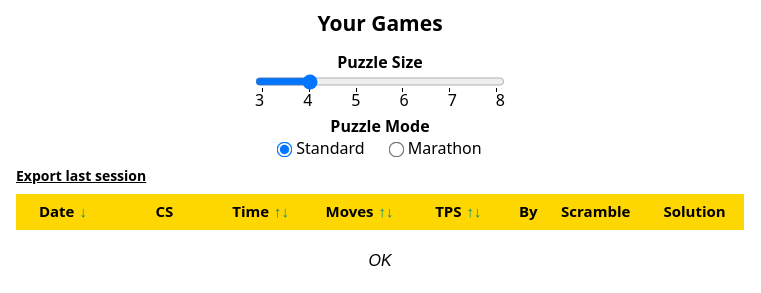
Test case: GamesTable › sorting › shows the inverted TPS arrow once TPS is the active sort
Expected: the element with class "buttons" is shown, [330,245,430,277]
Click the text "↑↓" next to "TPS".
click(474, 211)  # box [466,201,482,221]
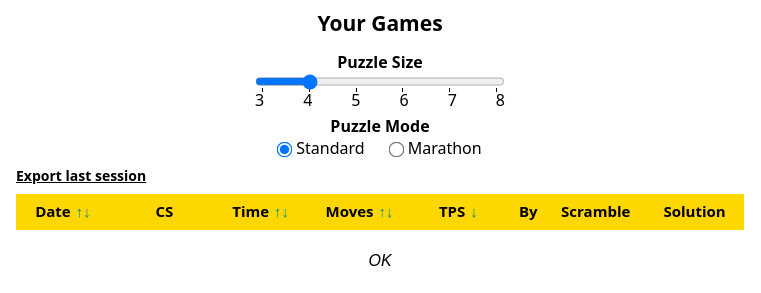
Expected: the text "↓" is shown, [470,201,478,221]
